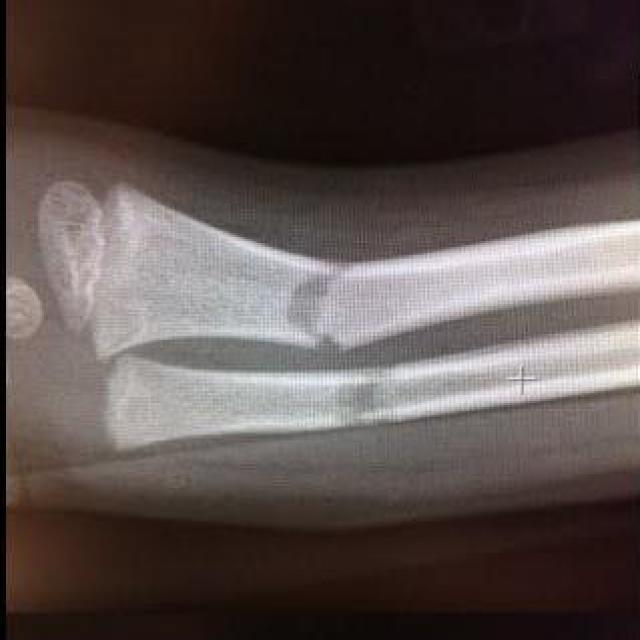bone: (276, 243, 412, 448)
